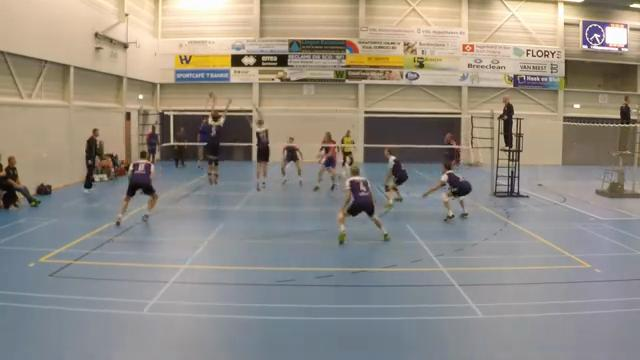Attack: (193, 114, 210, 171)
Block: (202, 94, 233, 188), (240, 102, 269, 192)
Player: (337, 166, 389, 243), (115, 151, 157, 225), (423, 163, 471, 221), (313, 132, 337, 190), (384, 148, 407, 207), (281, 137, 301, 185), (340, 130, 354, 177), (444, 133, 459, 167)
ball: (206, 91, 218, 101)
